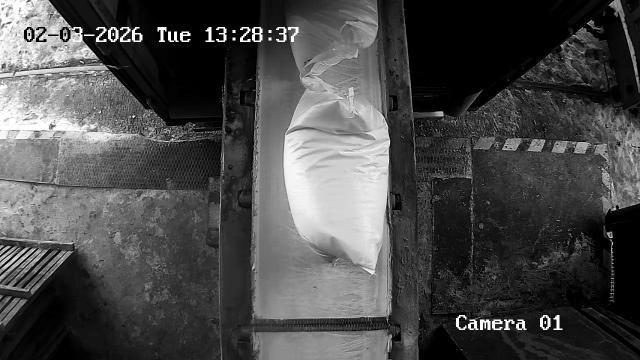bag: (284, 78, 389, 274), (284, 0, 378, 78)
